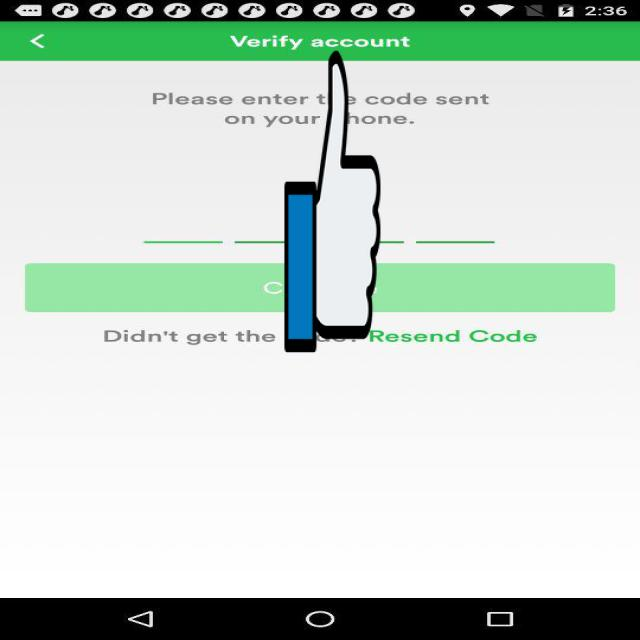privacy zuckering: (284, 44, 380, 359)
